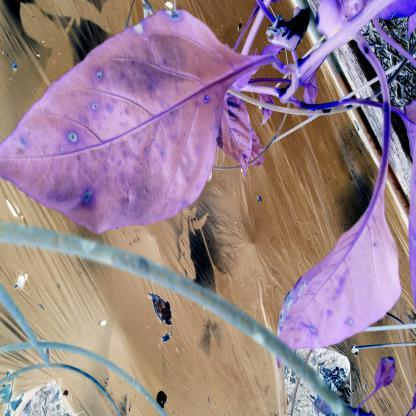Bell_pepper leaf: (0, 9, 257, 235), (274, 159, 404, 378)
